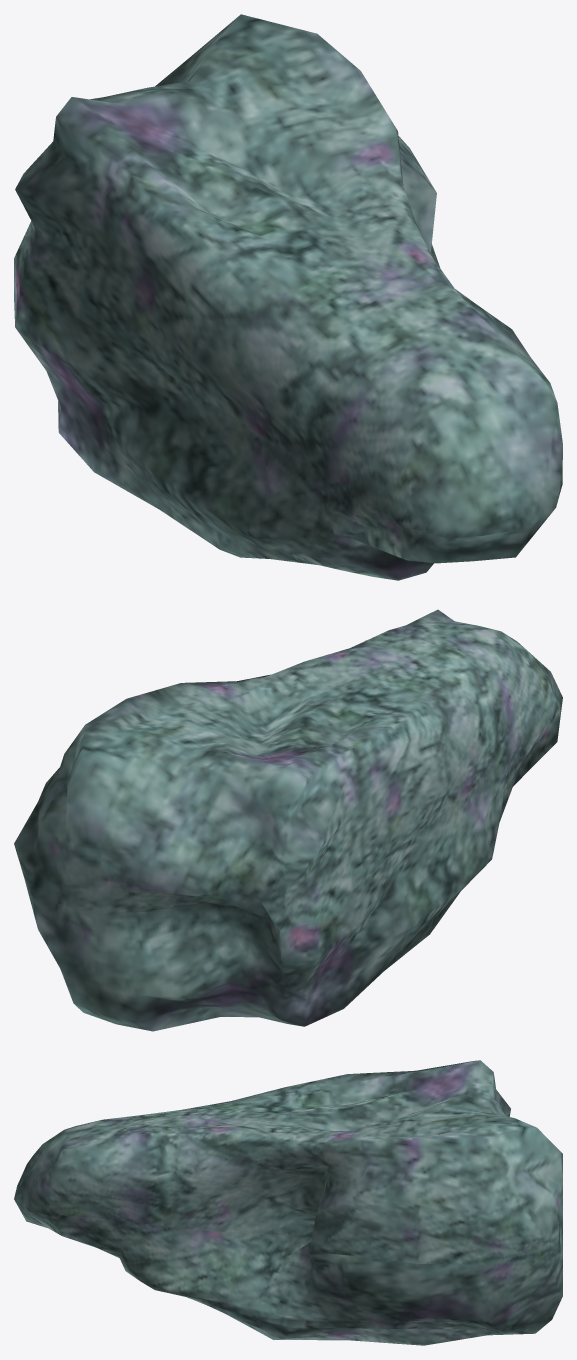
Rendered from metane_rock.fbx.
3 views of the same model, one above another, from view 1: azimuth 30°, elevation 25°; view 2: azimuth 150°, elevation 25°; view 3: azimuth 270°, elevation 25° (orthographic). The views are drawn at different scales.
Parts seen in each view (by area): view 1: Cube; view 2: Cube; view 3: Cube.
Boxes of the visible parts, box(x1,y1,x2,y2) form: Cube: box(14, 14, 562, 580); Cube: box(14, 609, 562, 1031); Cube: box(14, 1060, 562, 1345).
Bounding box in the file's own units: 1.99 × 1.97 × 4.3.
1 material, 1 textured.
